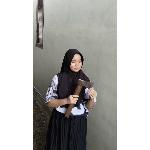Kapak: (65, 78, 99, 118)
